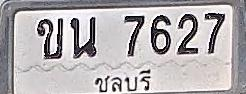2: (177, 13, 198, 54)
6: (150, 14, 170, 54)
7: (204, 12, 225, 54), (123, 15, 144, 56)
A02: (36, 17, 63, 59)
A25: (70, 16, 96, 58)
CBI: (89, 66, 154, 94)
